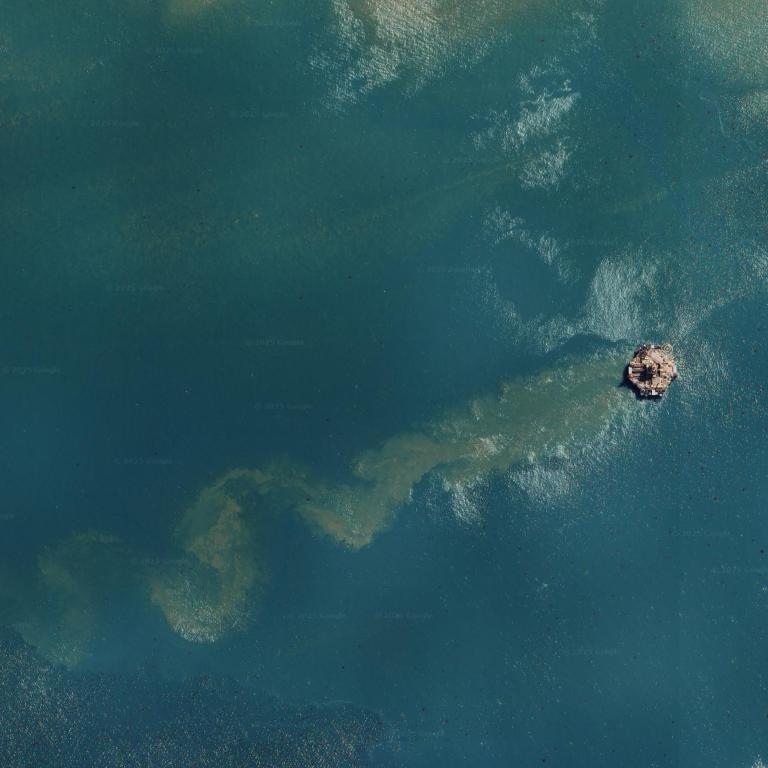platform: (625, 342, 678, 397)
